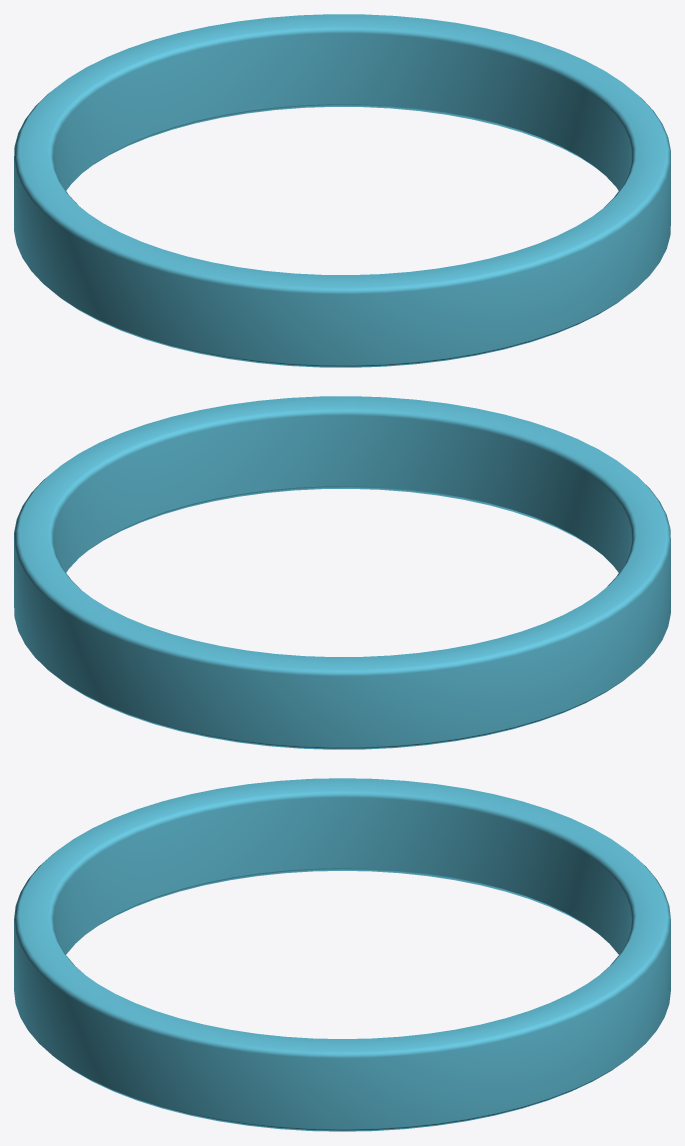
3 renders of one model, top to bottom at view 1: azimuth 30°, elevation 25°; view 2: azimuth 150°, elevation 25°; view 3: azimuth 270°, elevation 25°, orthographic.
Visible parts, largest first — view 1: seal_body; view 2: seal_body; view 3: seal_body.
Part boxes in pixels (left/top/right/bottom): seal_body: left=14, top=14, right=670, bottom=367; seal_body: left=14, top=396, right=670, bottom=749; seal_body: left=14, top=778, right=670, bottom=1131.
Bounding box in the file's own units: 0.0705 × 0.00952 × 0.0705.
